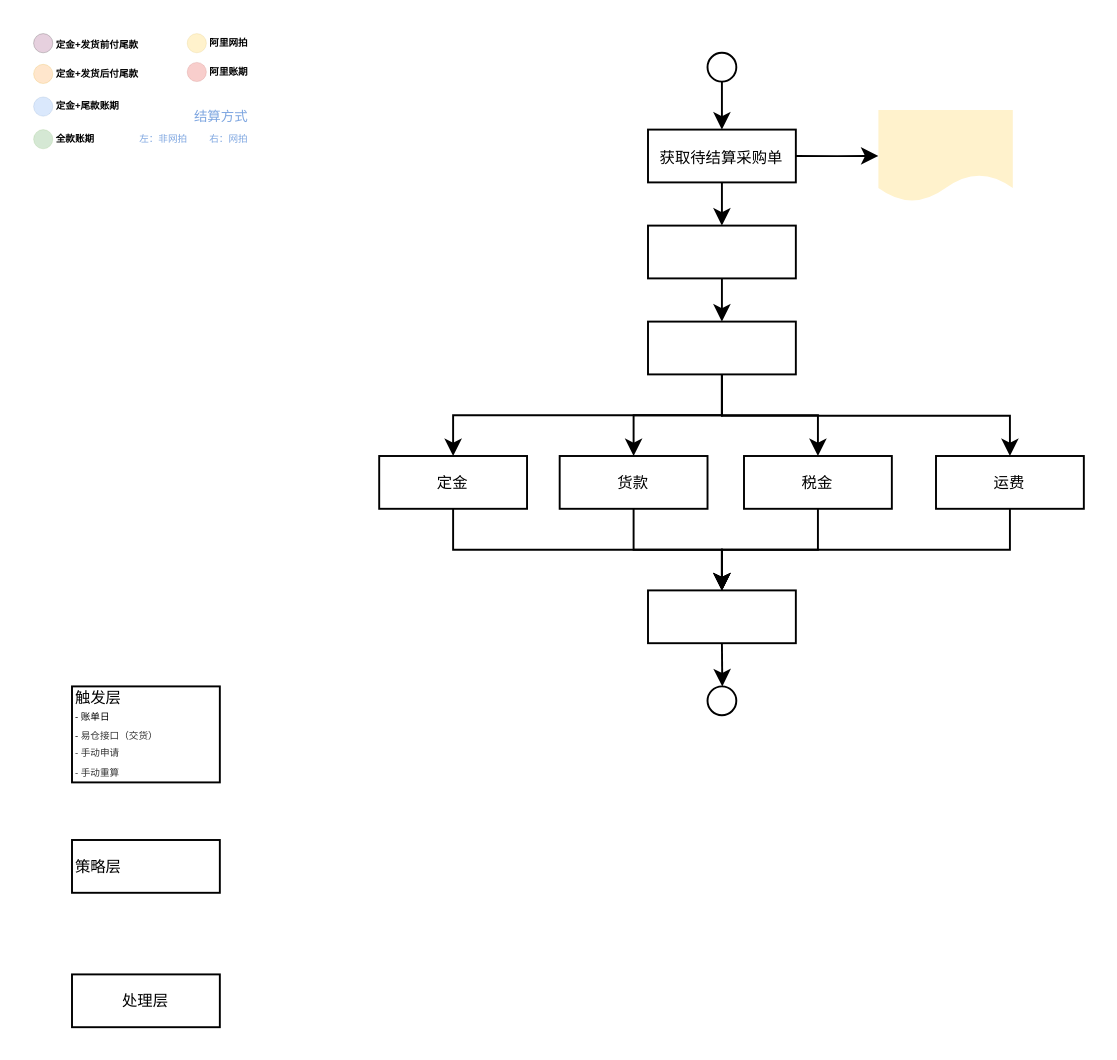
Image size: 1117x1060. Some labels were removed from this diagram. The shapes that lost their labels are listed below. From the top down, each one's box as (x1, y1, x2, y2) in pixels, then its label:
(877, 109, 1012, 201): 1、结算状态 2、费用结算状态
(646, 224, 796, 278): 获取供应商 （结算方式）
(646, 320, 796, 374): 拆分账单费用 （按结算方式）
(646, 588, 796, 643): 生成账单明细
